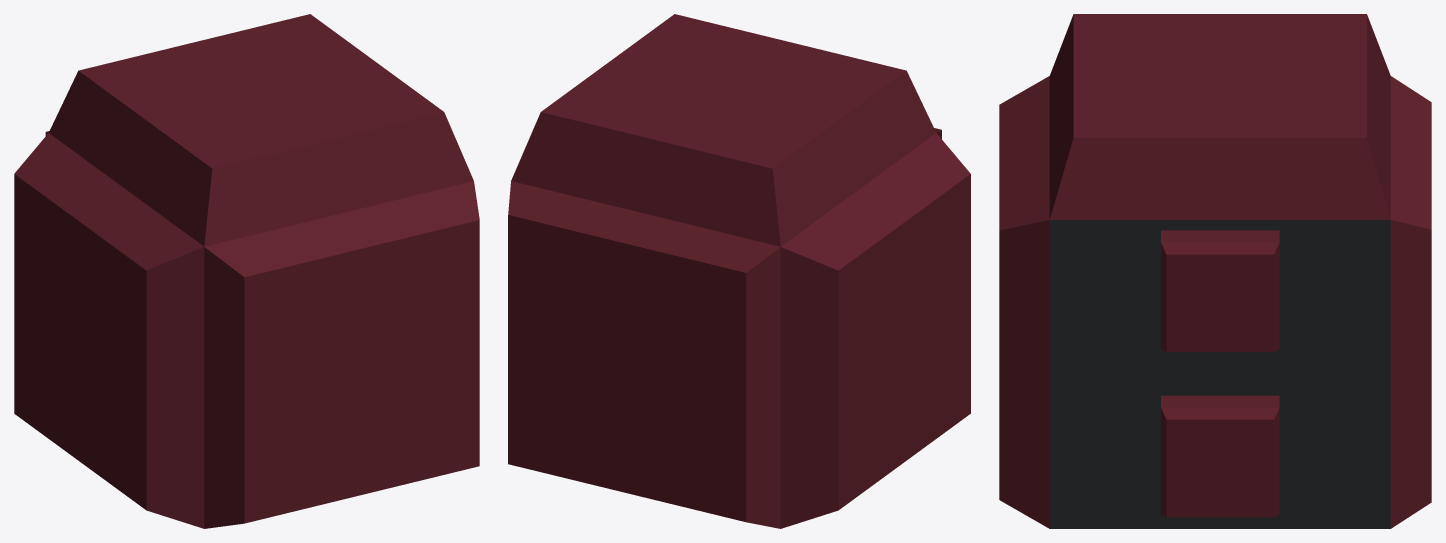
The model's file is Boof.fbx.
3 renders of one model, left to right at view 1: azimuth 30°, elevation 25°; view 2: azimuth 150°, elevation 25°; view 3: azimuth 270°, elevation 25°, orthographic. The views are drawn at different scales.
Visible parts, largest first — view 1: Cube.057; view 2: Cube.057; view 3: Cube.057.
Boxes of the visible parts, bbox=[...] form: Cube.057: bbox=[14, 14, 479, 528]; Cube.057: bbox=[508, 14, 970, 528]; Cube.057: bbox=[999, 14, 1431, 528].
Bounding box in the file's own units: 1.23 × 1.17 × 1.2.
